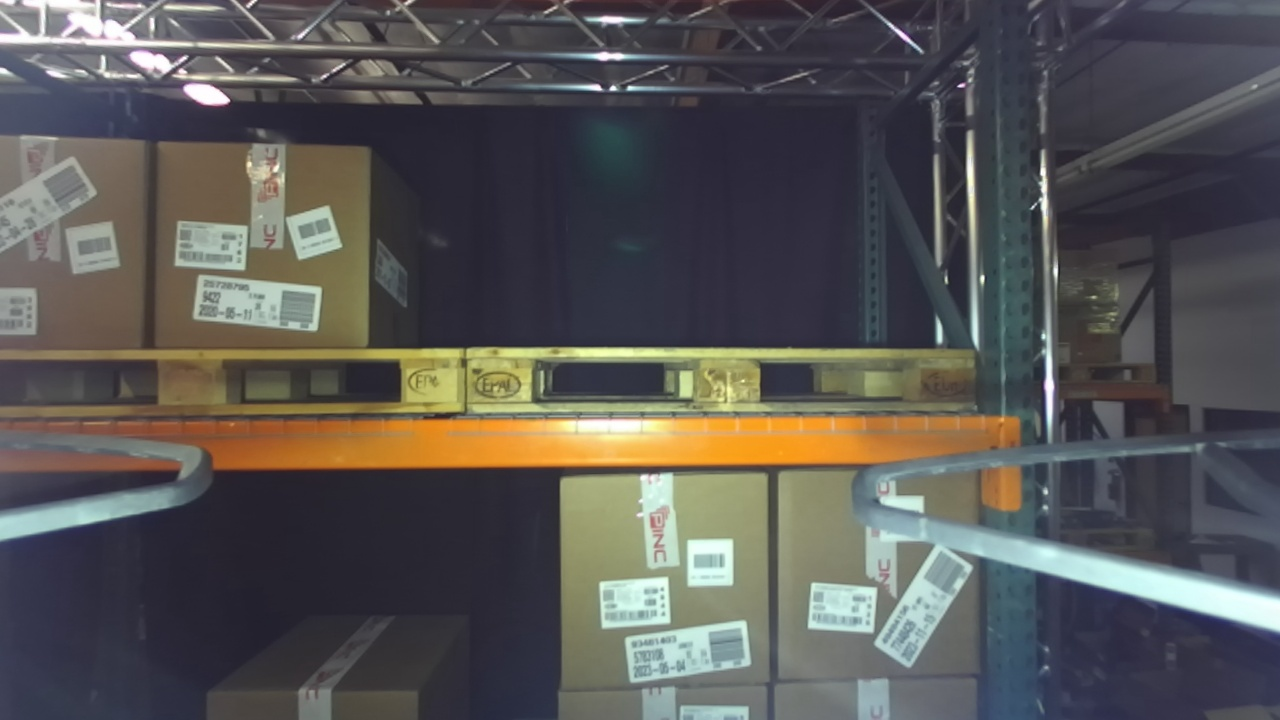box: (132, 128, 400, 376), (749, 448, 1002, 697), (538, 457, 791, 704), (1, 118, 161, 378)
